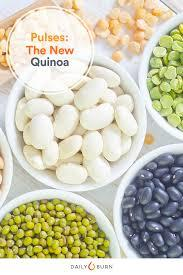Organic: (2, 0, 183, 245)
